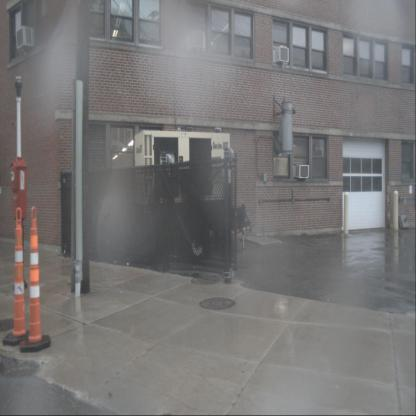movable_object-trafficcone: (19, 206, 51, 352), (3, 207, 32, 346)
